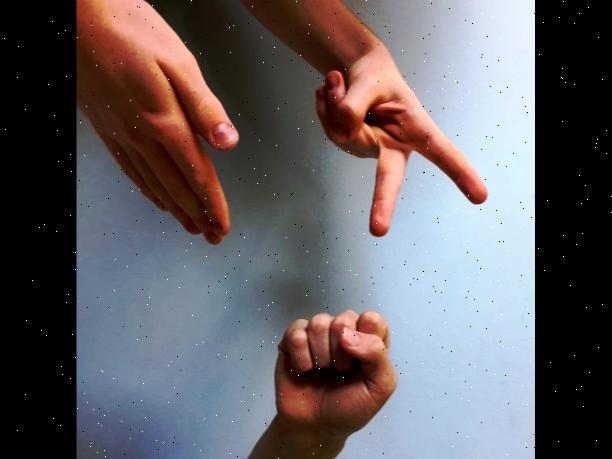Paper: (81, 0, 241, 252)
Rock: (261, 306, 405, 436)
Scissors: (311, 48, 492, 239)
